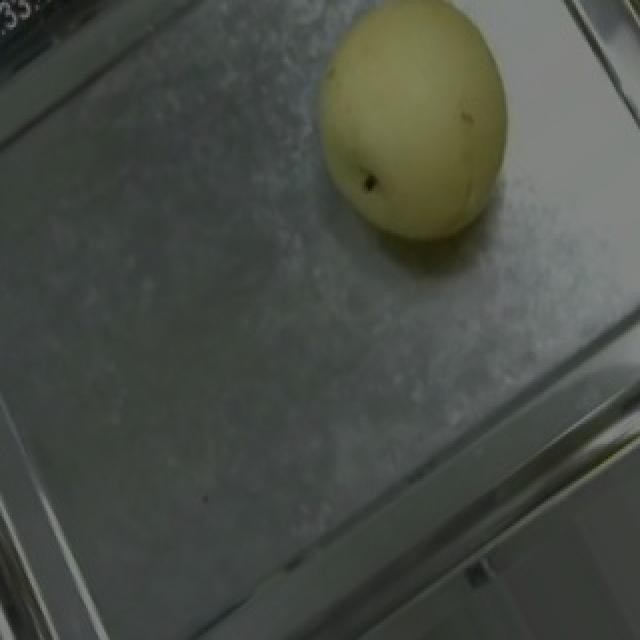Fruit: (270, 0, 558, 290)
